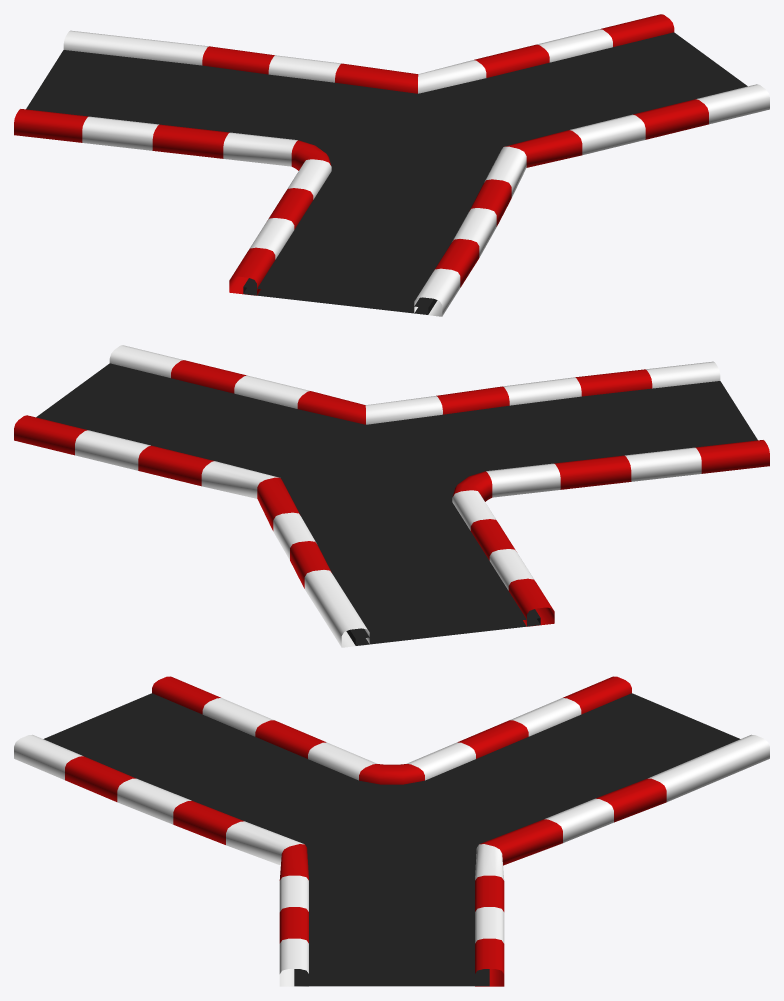
Rendered from TwoSidesTrack02.obj.
The picture shows the model from 3 angles, top to bottom: view 1: azimuth 30°, elevation 25°; view 2: azimuth 150°, elevation 25°; view 3: azimuth 270°, elevation 25°; orthographic projection.
Visible parts, largest first — view 1: TwoSidesTrack02_Cube.007; view 2: TwoSidesTrack02_Cube.007; view 3: TwoSidesTrack02_Cube.007.
Part boxes in pixels (x1,y1,x2,y2): TwoSidesTrack02_Cube.007: [14, 14, 769, 316]; TwoSidesTrack02_Cube.007: [14, 345, 769, 647]; TwoSidesTrack02_Cube.007: [14, 676, 769, 986].
Bounding box in the file's own units: 64.37 × 1.82 × 69.74.
